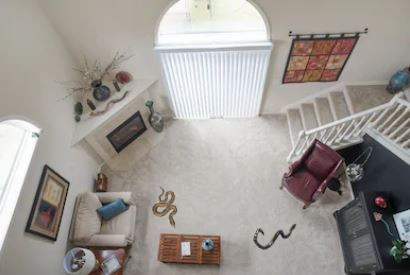snake: (252, 222, 299, 251), (151, 186, 179, 230)
